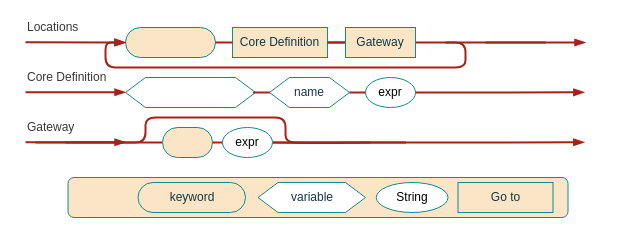
Some shapes in this 627 by 235 pixel diagram are drawn without their labels. The box of each missing label's shape, as (x1, y1, x2, y2) in pixels:
ip:: (162, 126, 212, 158)
Legend: (67, 176, 568, 218)
location identifier: (124, 76, 256, 108)
locations:: (124, 26, 216, 58)
